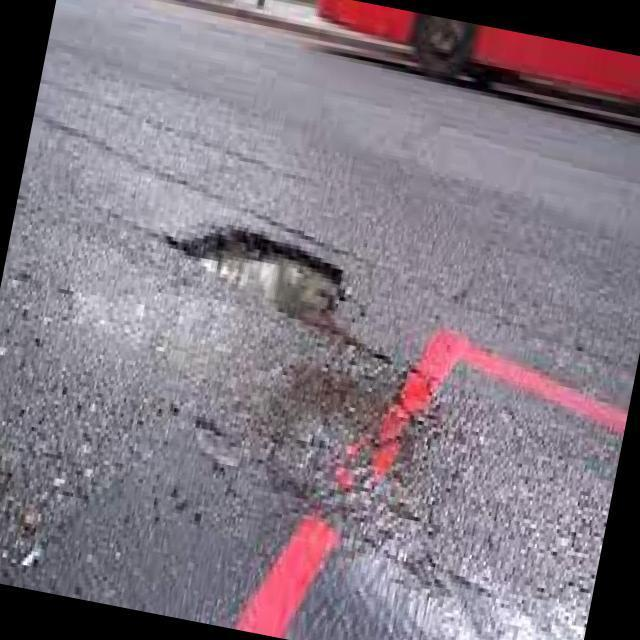Pothole: (171, 233, 342, 328)
